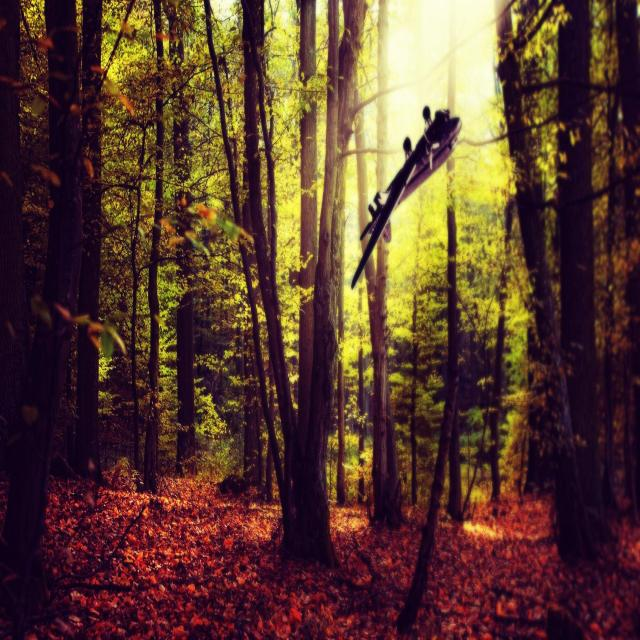airplane: (350, 104, 462, 289)
